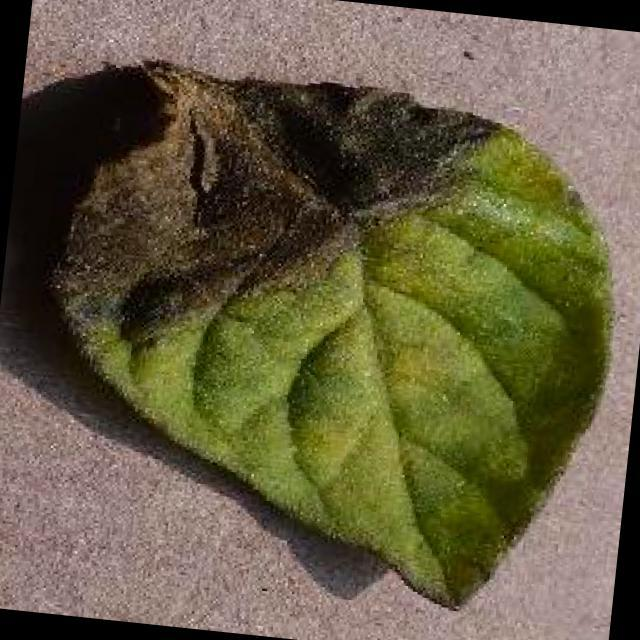Tomato late blight leaf: (22, 50, 640, 628)
